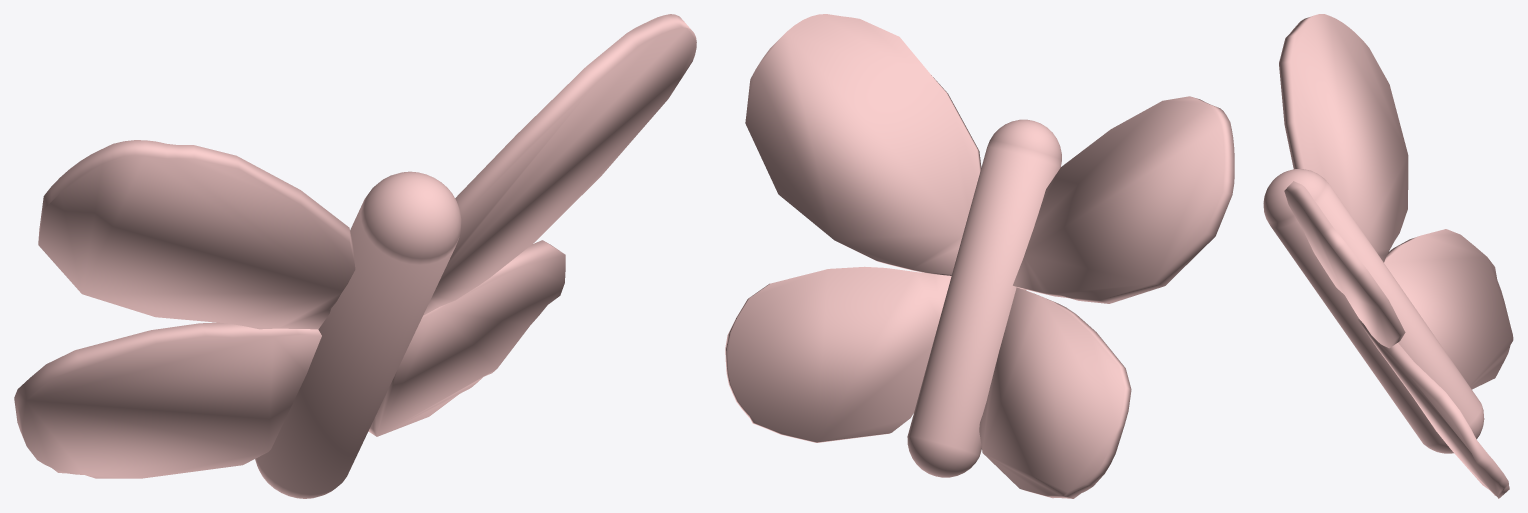
Rendered from butterflyPINK.gltf.
3 renders of one model, left to right at view 1: azimuth 30°, elevation 25°; view 2: azimuth 150°, elevation 25°; view 3: azimuth 270°, elevation 25°, orthographic. The views are drawn at different scales.
Visible parts, largest first — view 1: Cylinder, Cylinder.002, Sphere, Cylinder.001, Cylinder.003; view 2: Cylinder.001, Cylinder.003, Cylinder, Sphere, Cylinder.002; view 3: Cylinder, Sphere, Cylinder.002, Cylinder.001, Cylinder.003.
Part boxes in pixels (x1,y1,x2,y2): Cylinder: (38,140,355,329); Cylinder.002: (14,322,321,478); Sphere: (255,171,461,498); Cylinder.001: (423,14,696,315); Cylinder.003: (368,240,565,436); Cylinder.001: (745,14,981,275); Cylinder.003: (725,266,951,442); Cylinder: (1013,96,1234,303); Sphere: (907,119,1061,477); Cylinder.002: (979,287,1131,498); Cylinder: (1279,14,1408,262); Sphere: (1263,169,1484,453); Cylinder.002: (1384,229,1513,389); Cylinder.001: (1284,181,1405,348); Cylinder.003: (1357,319,1509,498).
Bounding box in the file's own units: 14.51 × 10.47 × 6.9.
